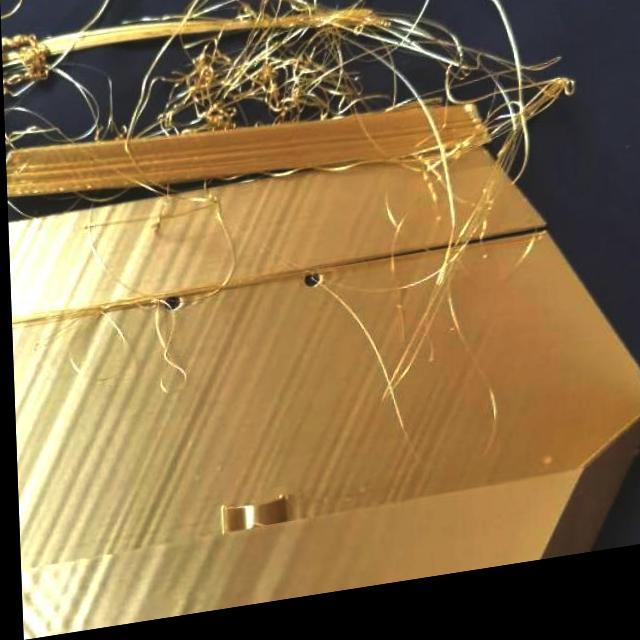spaghetti: (174, 35, 335, 141), (424, 181, 476, 349), (473, 78, 554, 170), (363, 19, 467, 90)
